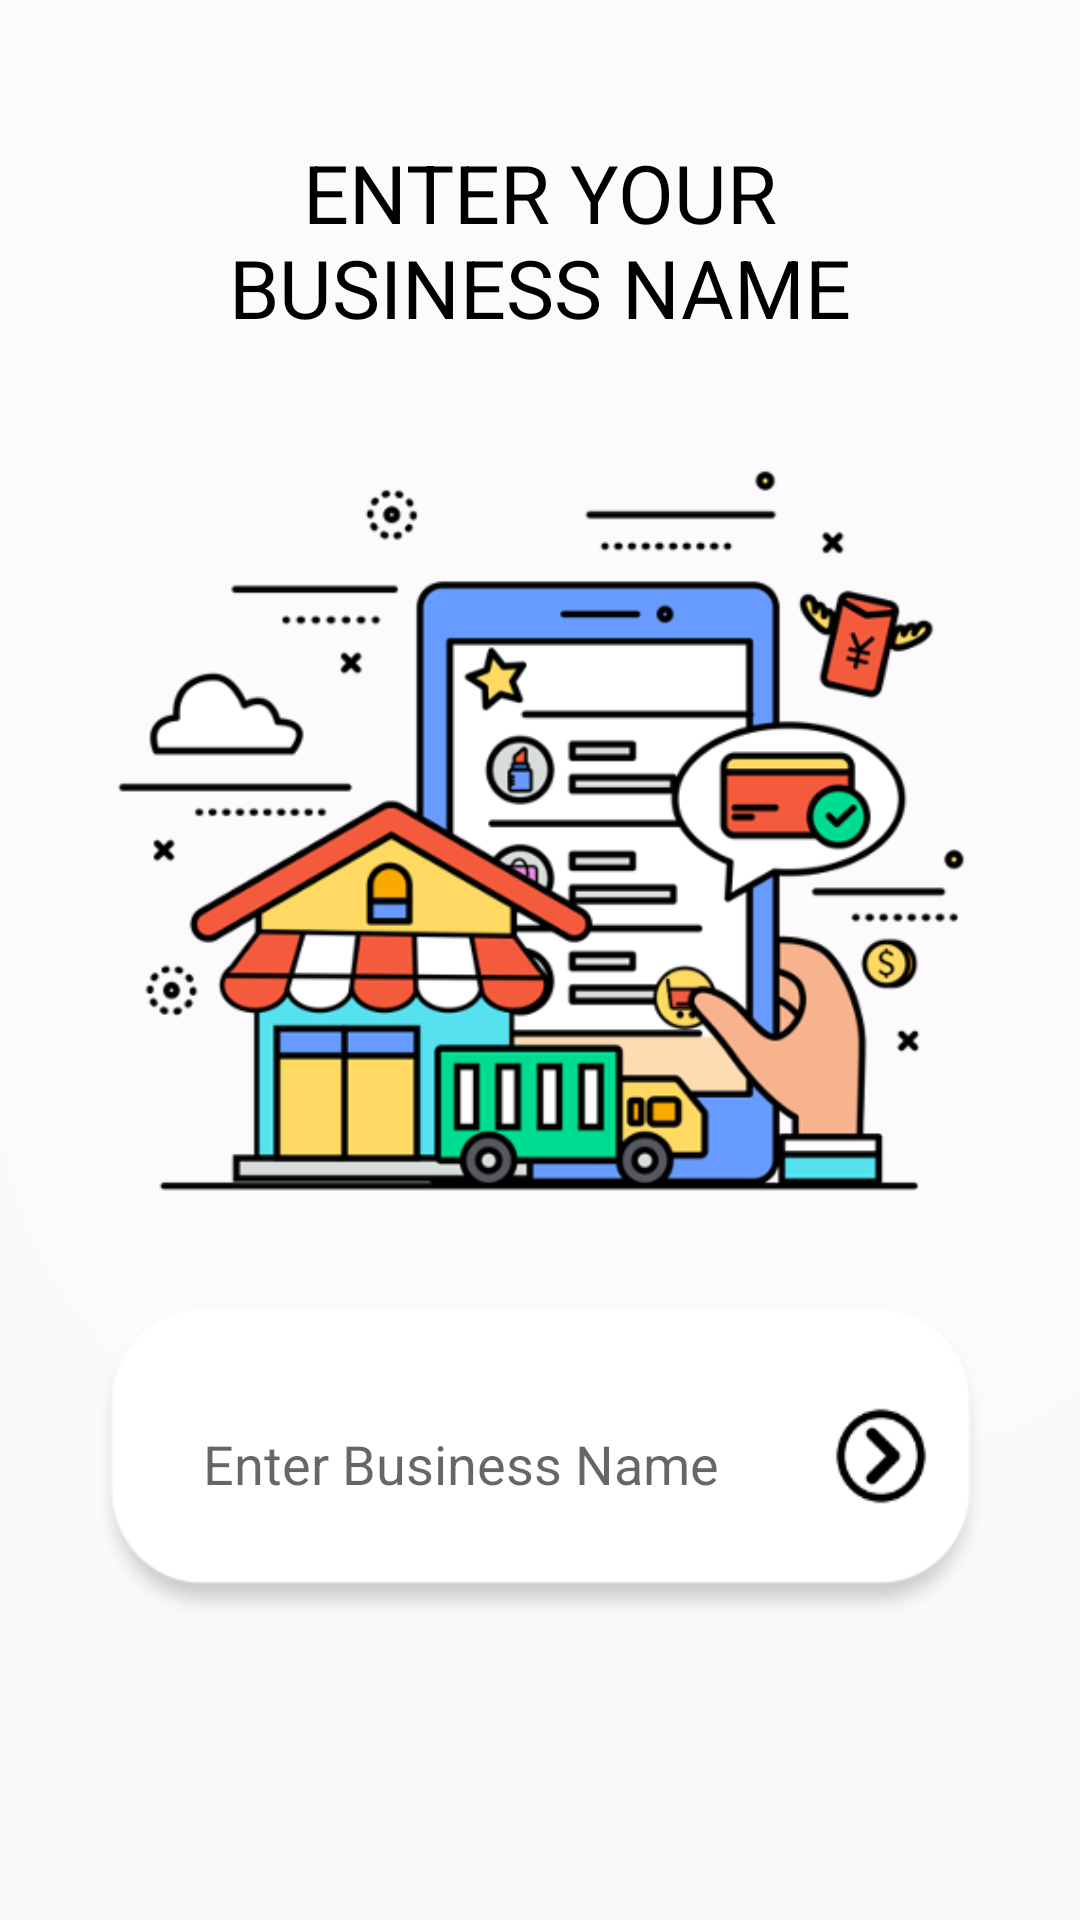

Icon click points for this 1080w x 1920h phone screenshot, format [x,y]:
forwardbtn: [881,1456]
